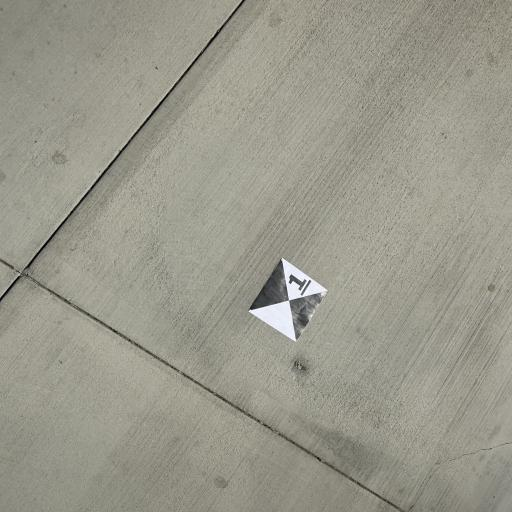target1: (242, 256, 332, 340)
